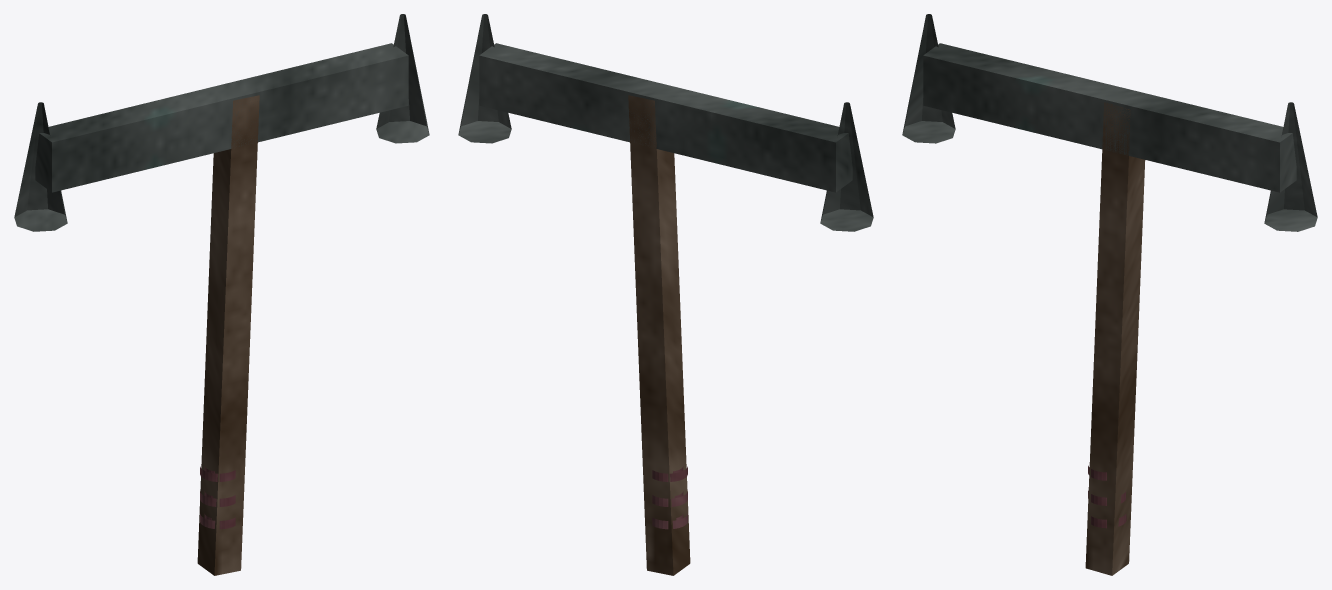
Rendered from 0875_pickaxe_25.glb.
The picture shows the model from 3 angles, left to right: view 1: azimuth 30°, elevation 25°; view 2: azimuth 150°, elevation 25°; view 3: azimuth 330°, elevation 25°; orthographic projection.
Visible parts, largest first — view 1: iron, wood, cloth; view 2: iron, wood, cloth; view 3: iron, wood, cloth.
Part boxes in pixels (x1,y1,x2,y2): iron: [14, 14, 429, 231]; wood: [197, 95, 259, 575]; cloth: [200, 466, 235, 529]; iron: [458, 14, 873, 231]; wood: [628, 95, 690, 575]; cloth: [652, 466, 687, 529]; iron: [902, 14, 1317, 231]; wood: [1085, 102, 1145, 575]; cloth: [1088, 465, 1126, 528].
Bounding box in the file's own units: 1.54 × 1.82 × 0.18.
Materials: 3 (3 with a texture image).
